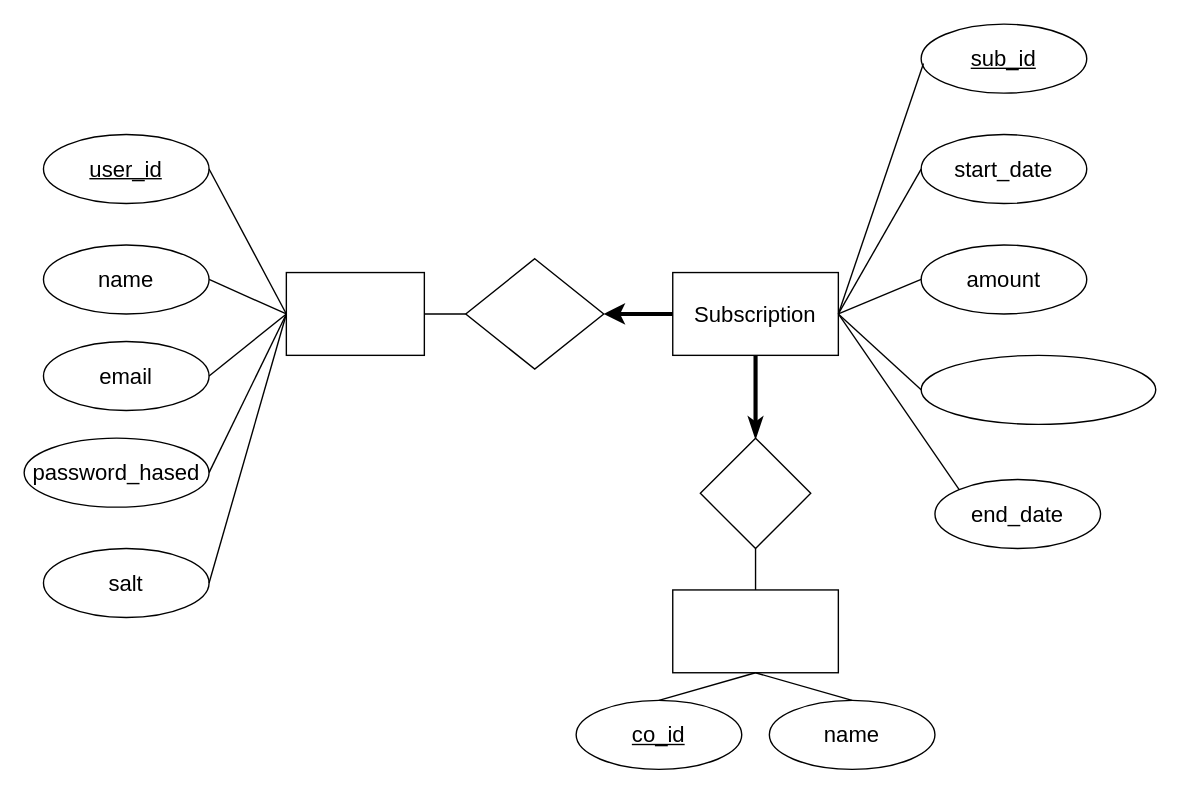
Some shapes in this 1180 by 794 pixel diagram are drawn without their labels. The centre of each missing label's shape, as x and y in pixels:
"Company" belongs at point 754,631.
"Has" belongs at point 755,493.
"Subscribes" belongs at point 534,313.
"subscription_cycle" belongs at point 1038,389.
"User" belongs at point 354,313.
